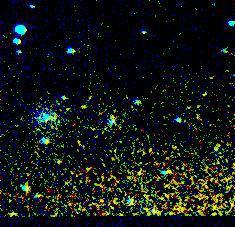star: (70, 92, 100, 122)
